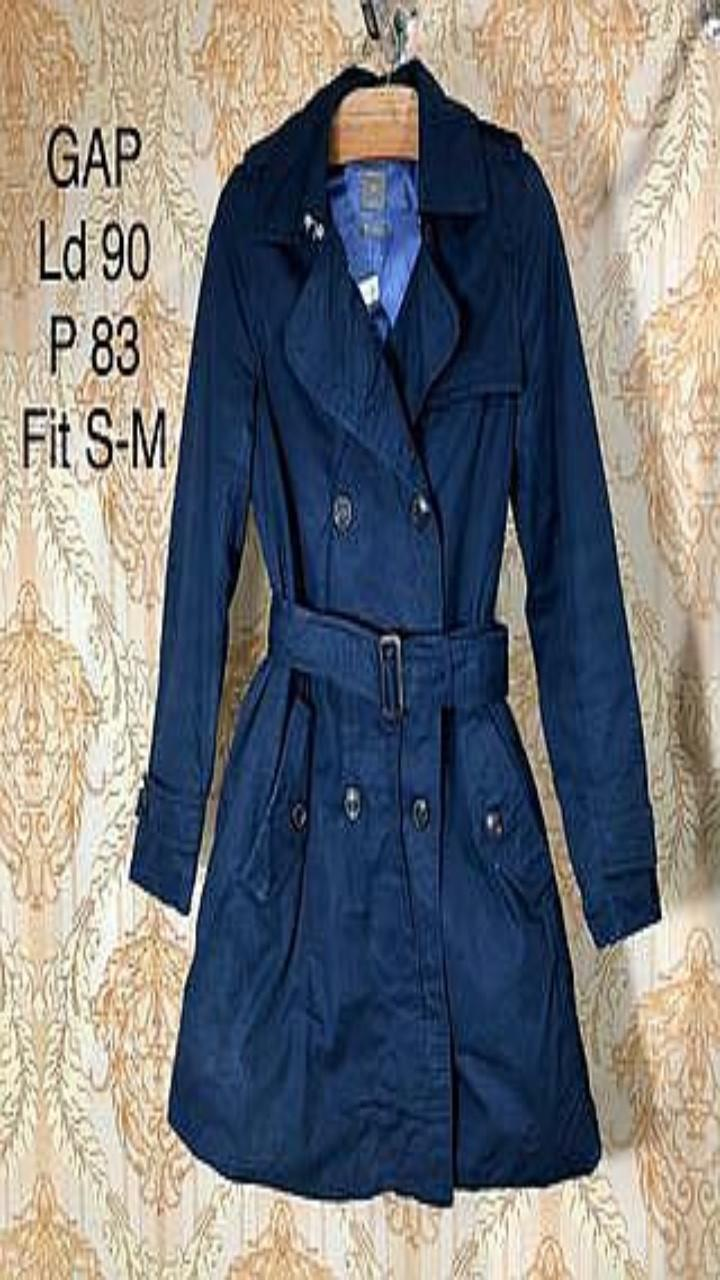Coat: (130, 57, 660, 1205)
